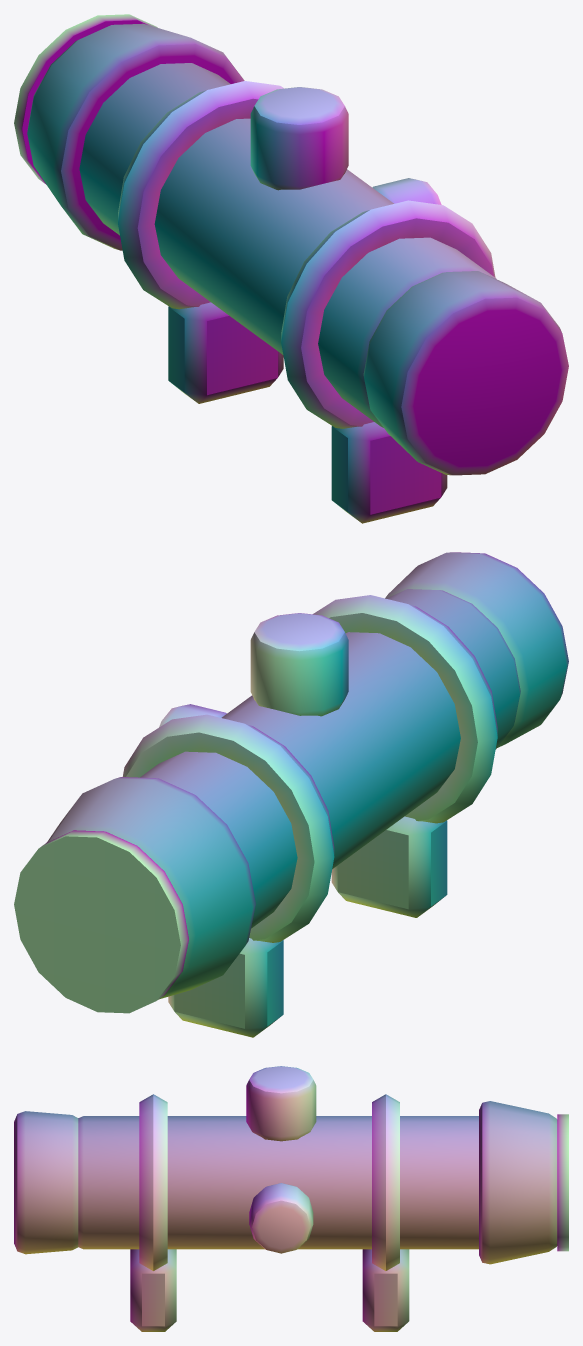
Rendered from att_scope.glb.
3 renders of one model, top to bottom at view 1: azimuth 30°, elevation 25°; view 2: azimuth 150°, elevation 25°; view 3: azimuth 270°, elevation 25°, orthographic. The views are drawn at different scales.
Parts seen in each view (by area): view 1: att_scope_mesh; view 2: att_scope_mesh; view 3: att_scope_mesh.
Part boxes in pixels (x1,y1,x2,y2): att_scope_mesh: (14, 14, 568, 523); att_scope_mesh: (14, 552, 568, 1037); att_scope_mesh: (14, 1066, 568, 1331).
Bounding box in the file's own units: 0.0338 × 0.046 × 0.0955.
